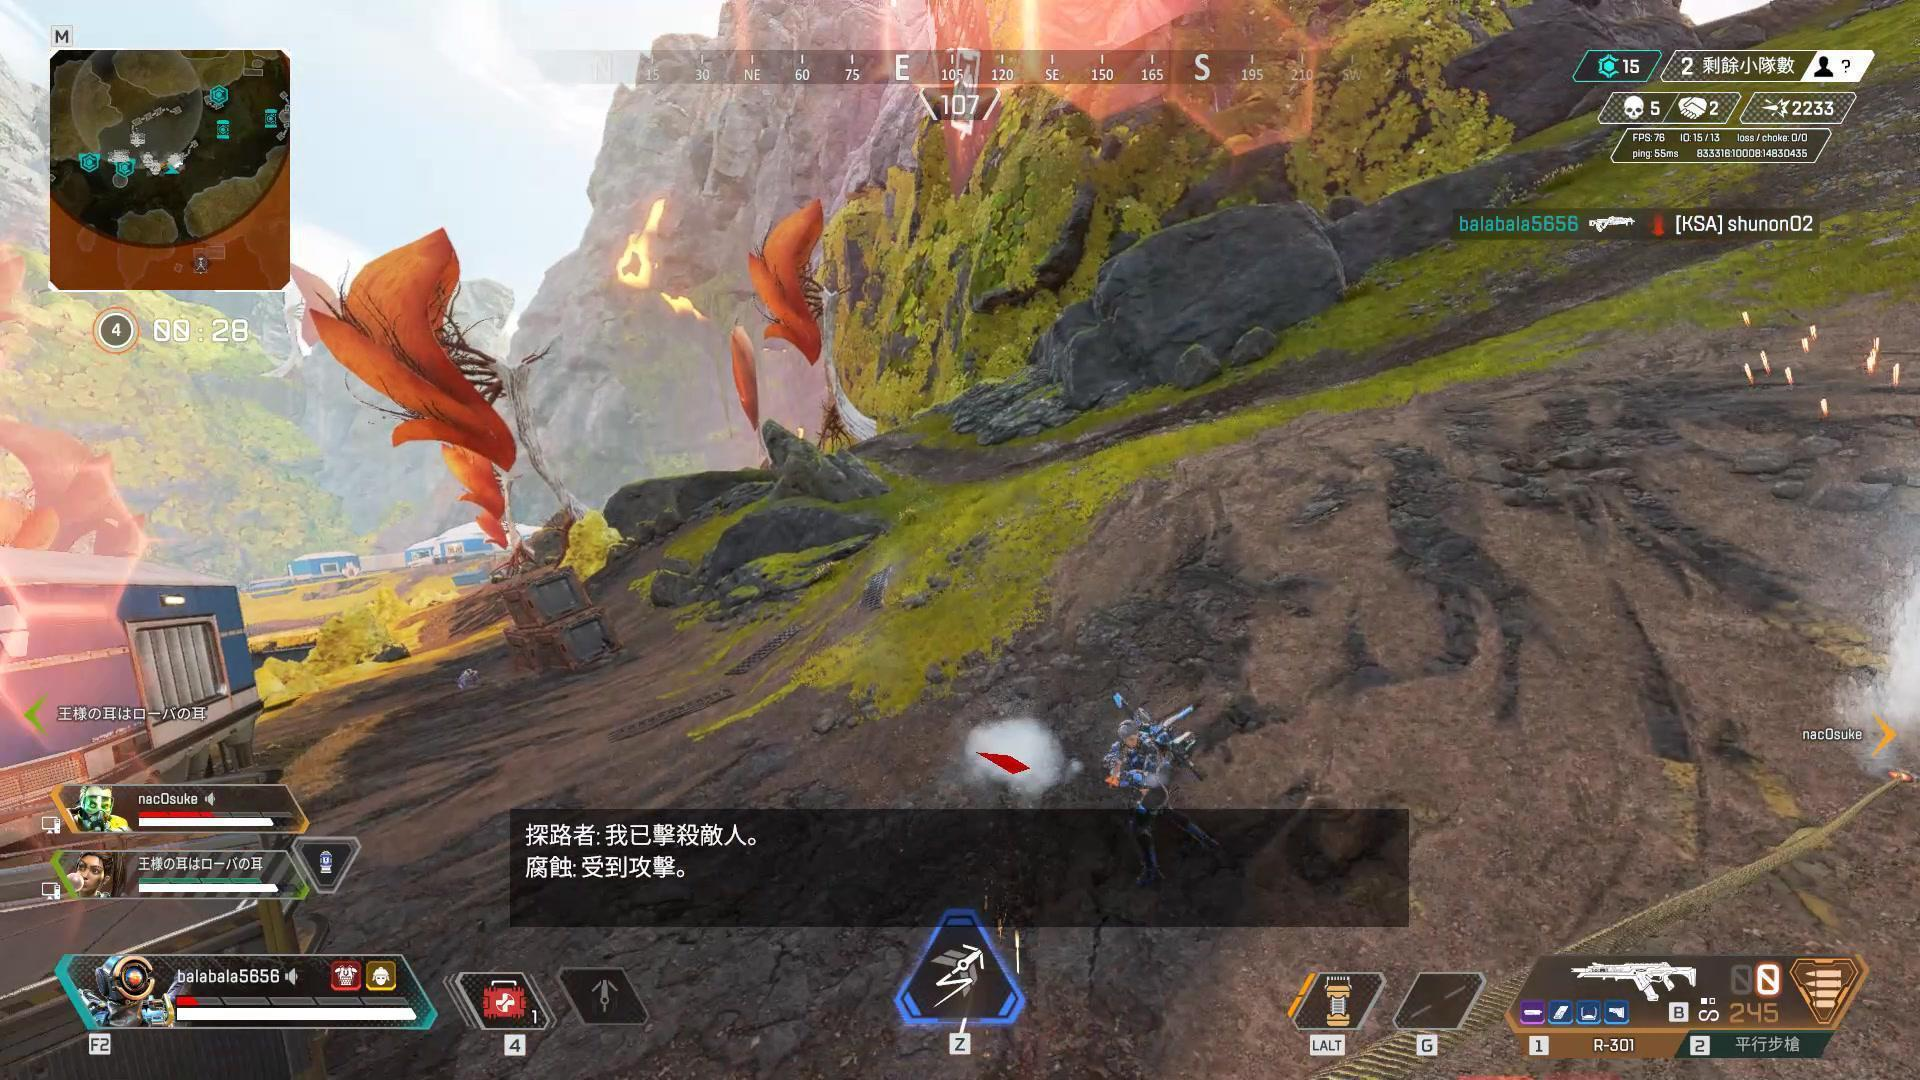avatar: (1107, 702, 1198, 889)
